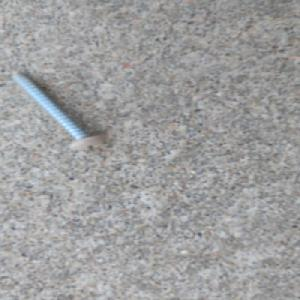Screw: (7, 67, 107, 152)
